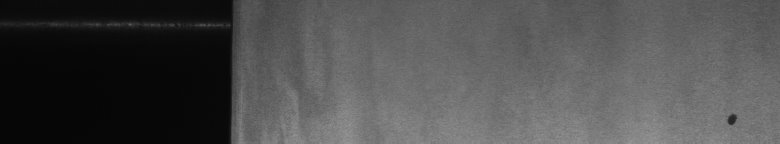fi: (720, 104, 747, 133)
